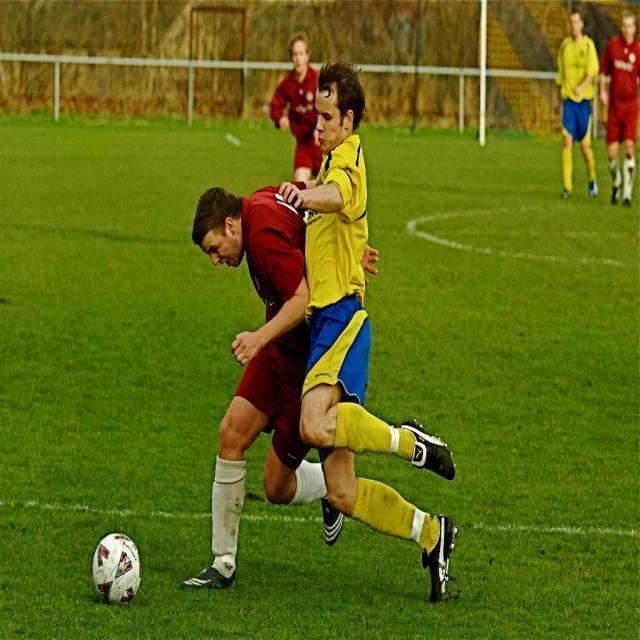football: (75, 522, 157, 604)
